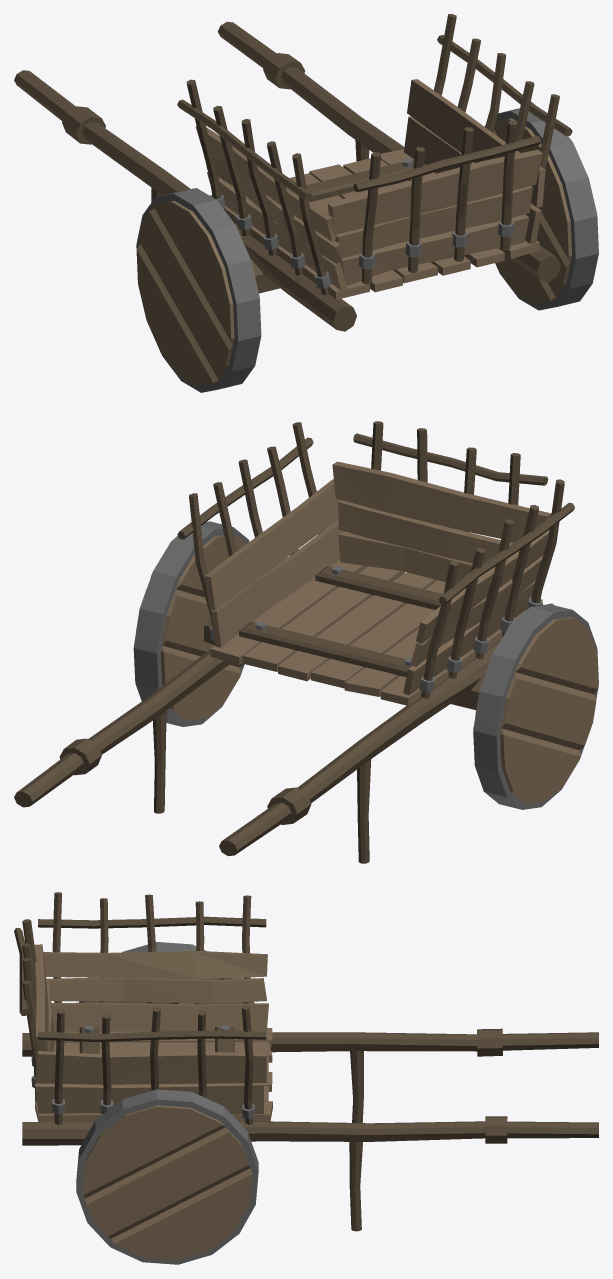
The model's file is cart_f.FBX.
The picture shows the model from 3 angles, top to bottom: view 1: azimuth 30°, elevation 25°; view 2: azimuth 150°, elevation 25°; view 3: azimuth 270°, elevation 25°; orthographic projection. The views are drawn at different scales.
Parts seen in each view (by area): view 1: cart_f; view 2: cart_f; view 3: cart_f.
Part boxes in pixels (x1=…): cart_f: x1=14, y1=14, x2=598, y2=392; cart_f: x1=14, y1=421, x2=598, y2=863; cart_f: x1=14, y1=892, x2=598, y2=1264.
Bounding box in the file's own units: 1.53 × 1.05 × 2.35.
